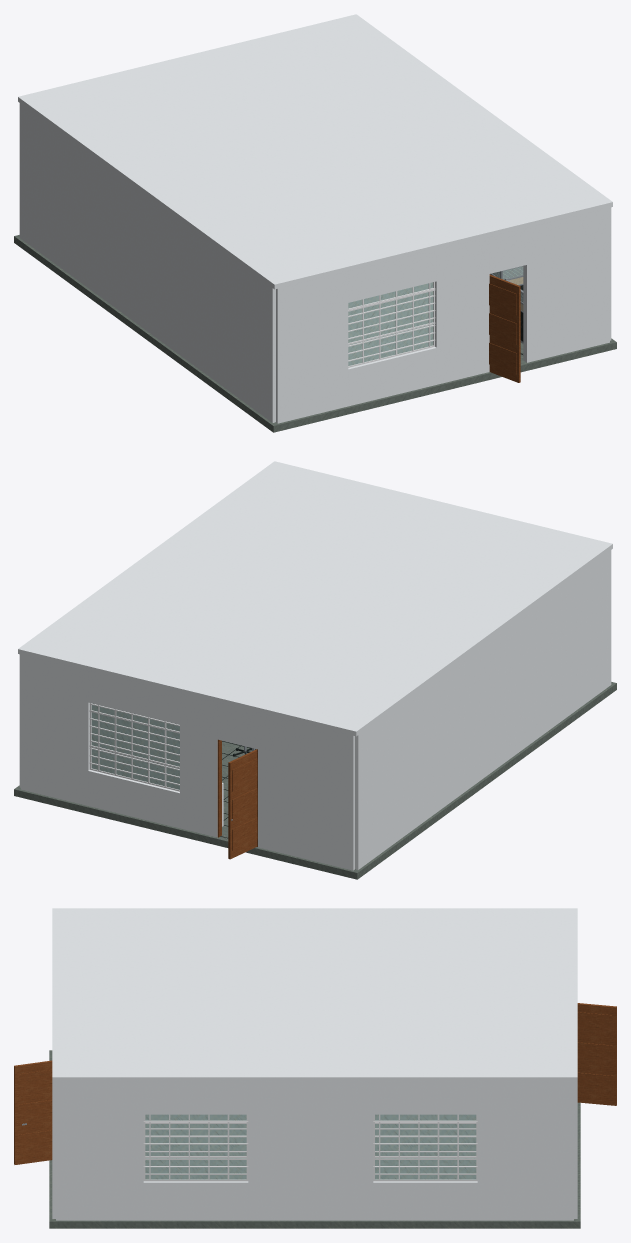
File: Ruangan Dosen.glb
3 views of the same model, one above another, from view 1: azimuth 30°, elevation 25°; view 2: azimuth 150°, elevation 25°; view 3: azimuth 270°, elevation 25° (orthographic). The views are drawn at different scales.
Visible parts, largest first — view 1: 09_Plafon_dan_Balok, 03_Dinding_Belakang, 04_Dinding_Kiri, 06_Jendela_Berkisi, 01_Lantai, 08_Pintu_Belakang; view 2: 09_Plafon_dan_Balok, 02_Dinding_Depan, 04_Dinding_Kiri, 01_Lantai, 06_Jendela_Berkisi, 07_Pintu_Masuk; view 3: 09_Plafon_dan_Balok, 05_Dinding_Kanan, 06_Jendela_Berkisi, 01_Lantai, 07_Pintu_Masuk, 08_Pintu_Belakang, 02_Dinding_Depan, 03_Dinding_Belakang.
Part boxes in pixels (x1,y1,x2,y2): 09_Plafon_dan_Balok: (18,14,612,289); 03_Dinding_Belakang: (276,207,609,423); 04_Dinding_Kiri: (19,103,275,422); 06_Jendela_Berkisi: (348,282,435,367); 01_Lantai: (14,235,616,432); 08_Pintu_Belakang: (489,274,520,382); 09_Plafon_dan_Balok: (18,461,612,736); 02_Dinding_Depan: (21,654,354,870); 04_Dinding_Kiri: (355,550,611,869); 01_Lantai: (14,682,616,879); 06_Jendela_Berkisi: (89,703,179,791); 07_Pintu_Masuk: (217,739,257,859); 09_Plafon_dan_Balok: (52,908,577,1082); 05_Dinding_Kanan: (56,1082,573,1220); 06_Jendela_Berkisi: (143,1114,477,1181); 01_Lantai: (49,1050,580,1228); 07_Pintu_Masuk: (577,1003,616,1105); 08_Pintu_Belakang: (14,1060,52,1164); 02_Dinding_Depan: (574,1082,577,1218); 03_Dinding_Belakang: (52,1082,55,1218).
Size of the model in its own units: 9.72 by 3.96 by 14.44.
Materials: 13 (13 with a texture image).
